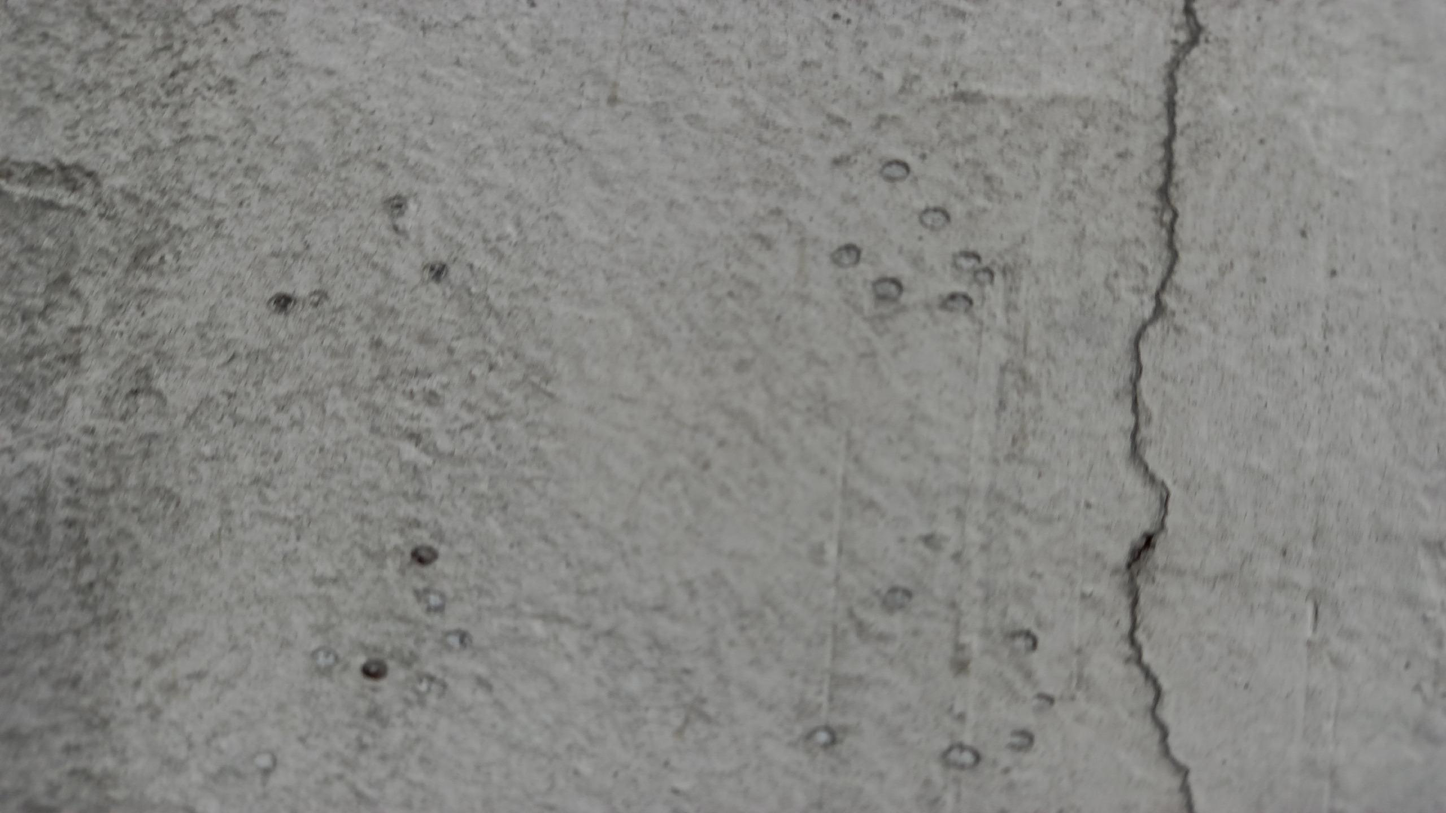crack: (1118, 0, 1208, 812)
